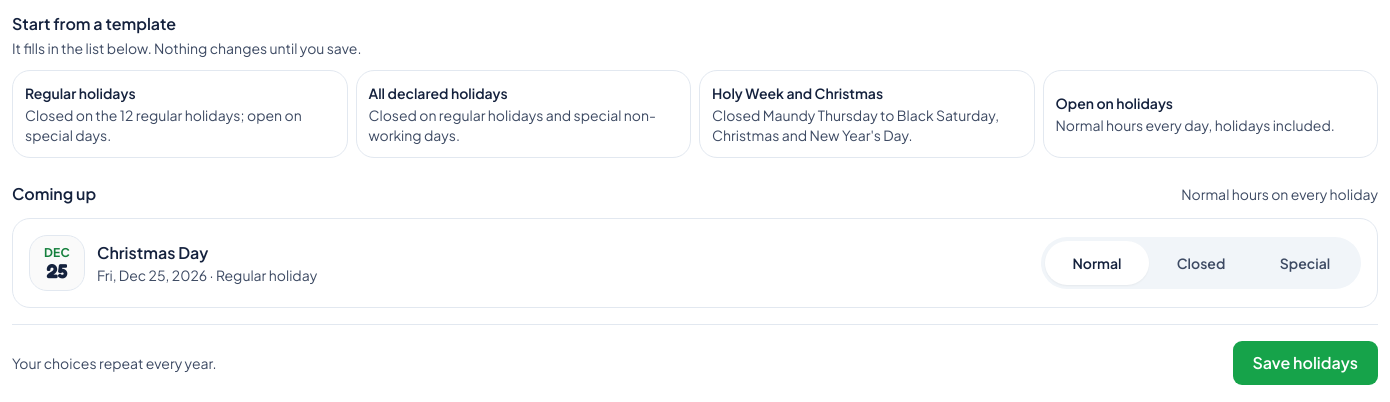
Test: HolidayRulesForm › saves a holiday set to closed
Later steps or results of the test are not shown.
Click the radio button labelled "Closed" at [1201, 263], box [1177,254,1225,272]
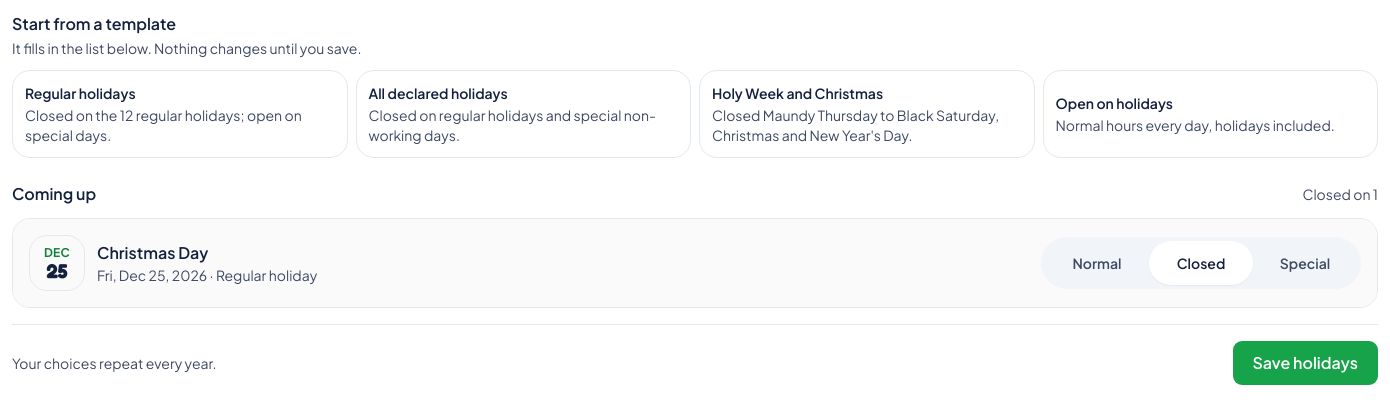
Check: the text "Closed on 1" is shown, box [1302,184,1378,204]
